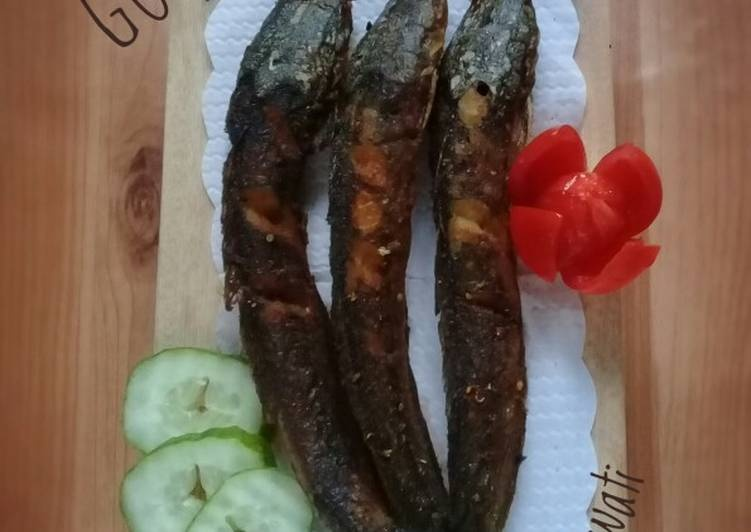pecel_lele: (229, 3, 374, 532), (324, 4, 450, 519)
